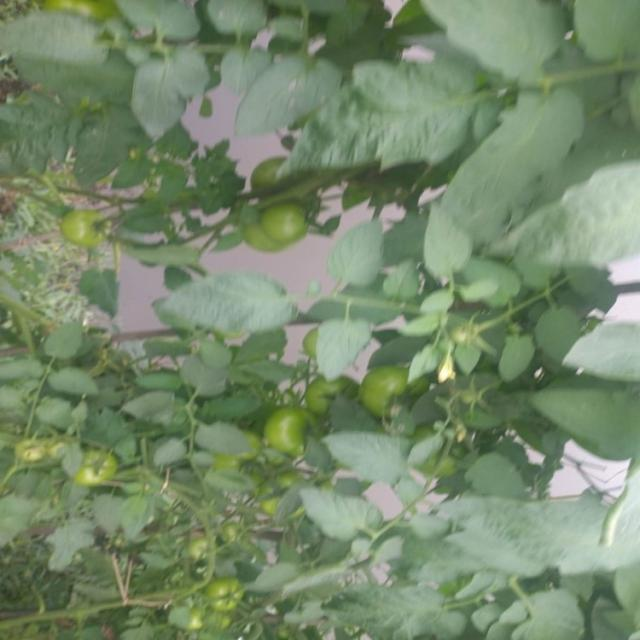tomato: (349, 355, 427, 432), (245, 401, 313, 465), (255, 202, 315, 250), (70, 445, 119, 491), (301, 376, 349, 417), (243, 145, 280, 194), (247, 217, 283, 264), (208, 585, 249, 624), (59, 206, 91, 245), (15, 432, 46, 466), (216, 517, 242, 544), (184, 532, 216, 552)
